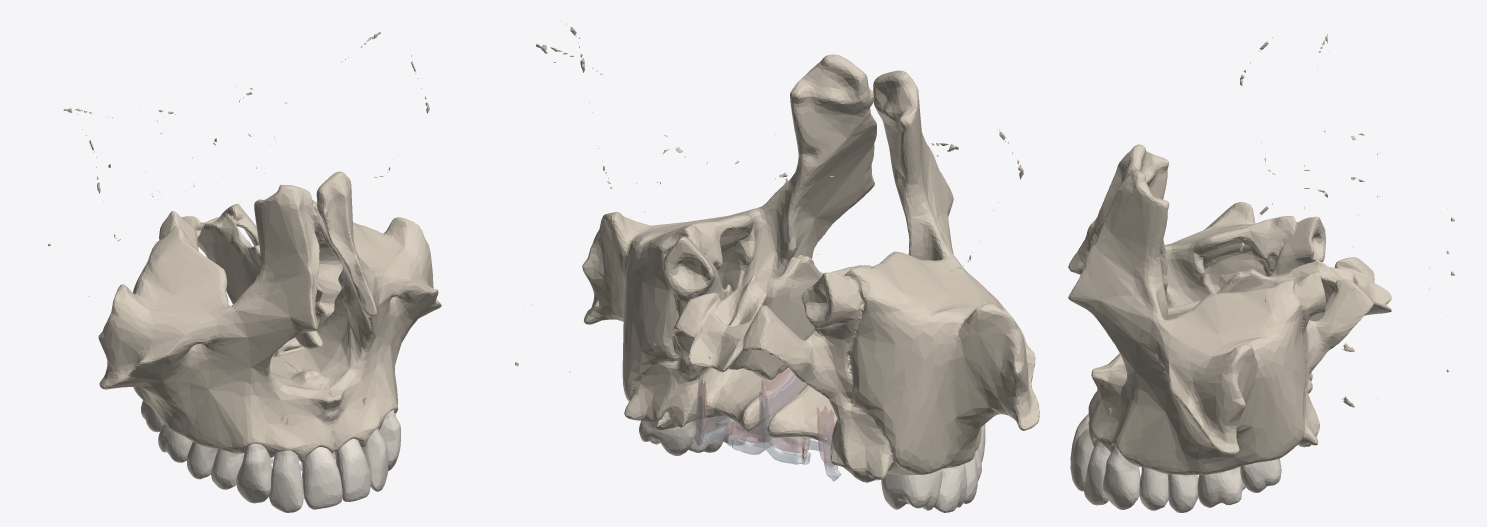
Rendered from mec-case.glb.
3 renders of one model, left to right at view 1: azimuth 30°, elevation 25°; view 2: azimuth 150°, elevation 25°; view 3: azimuth 270°, elevation 25°, orthographic. The views are drawn at different scales.
Visible parts, largest first — view 1: bone, teeth; view 2: bone, teeth, cover_plate, mucosa, sphenoid; view 3: bone, teeth, sphenoid.
Part boxes in pixels (bbox=[...]): bone: bbox=[98, 171, 441, 461]; teeth: bbox=[141, 400, 400, 512]; bone: bbox=[582, 54, 1039, 482]; teeth: bbox=[639, 418, 985, 512]; cover_plate: bbox=[692, 371, 879, 481]; mucosa: bbox=[692, 367, 834, 467]; sphenoid: bbox=[515, 21, 1023, 462]; bone: bbox=[1068, 144, 1391, 475]; teeth: bbox=[1070, 413, 1281, 512]; sphenoid: bbox=[1240, 34, 1454, 407].
Size of the model in its own units: 0.108 by 0.092 by 0.0904.
